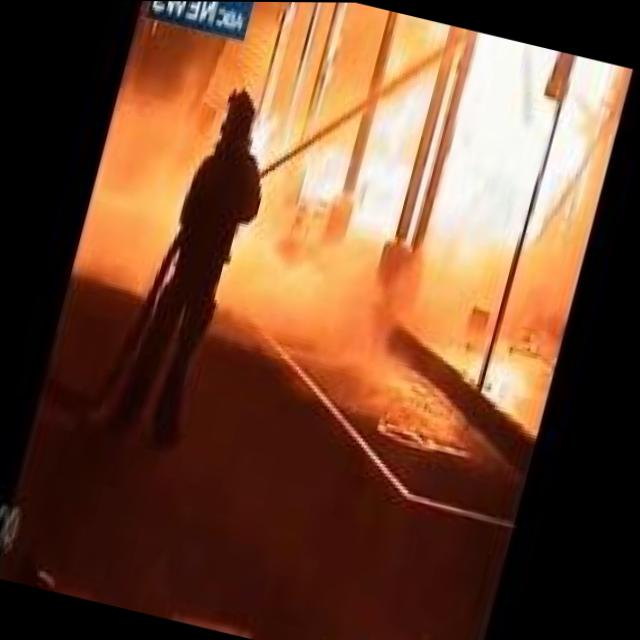fire: (218, 1, 620, 337)
